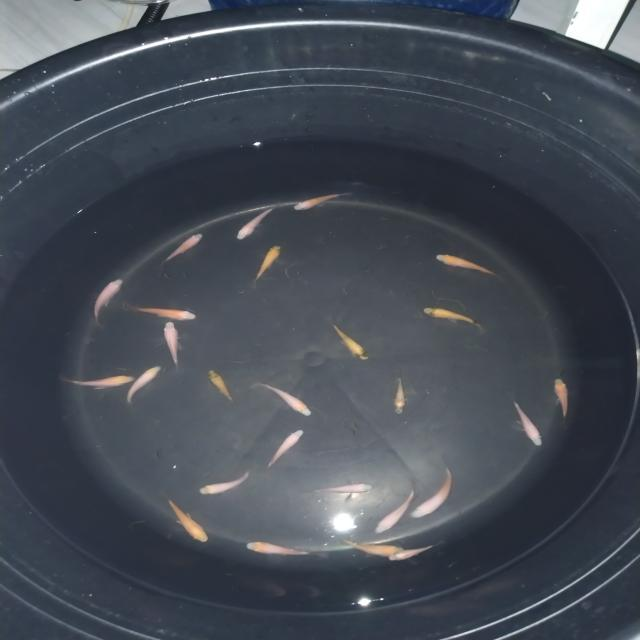nila: (410, 456, 457, 520), (370, 477, 420, 537), (161, 492, 212, 548), (432, 251, 506, 285), (252, 381, 316, 418), (242, 536, 322, 564), (260, 427, 306, 472), (324, 319, 372, 362), (507, 398, 548, 448), (195, 464, 254, 497), (330, 535, 410, 559), (420, 305, 490, 332), (158, 230, 204, 269), (126, 302, 210, 323), (234, 202, 278, 242), (92, 276, 125, 328), (125, 363, 163, 408), (249, 242, 283, 290), (381, 540, 446, 564), (548, 375, 577, 428), (52, 373, 134, 391), (157, 320, 185, 371), (291, 190, 352, 213), (204, 367, 238, 407), (300, 481, 378, 498), (389, 374, 411, 418)
